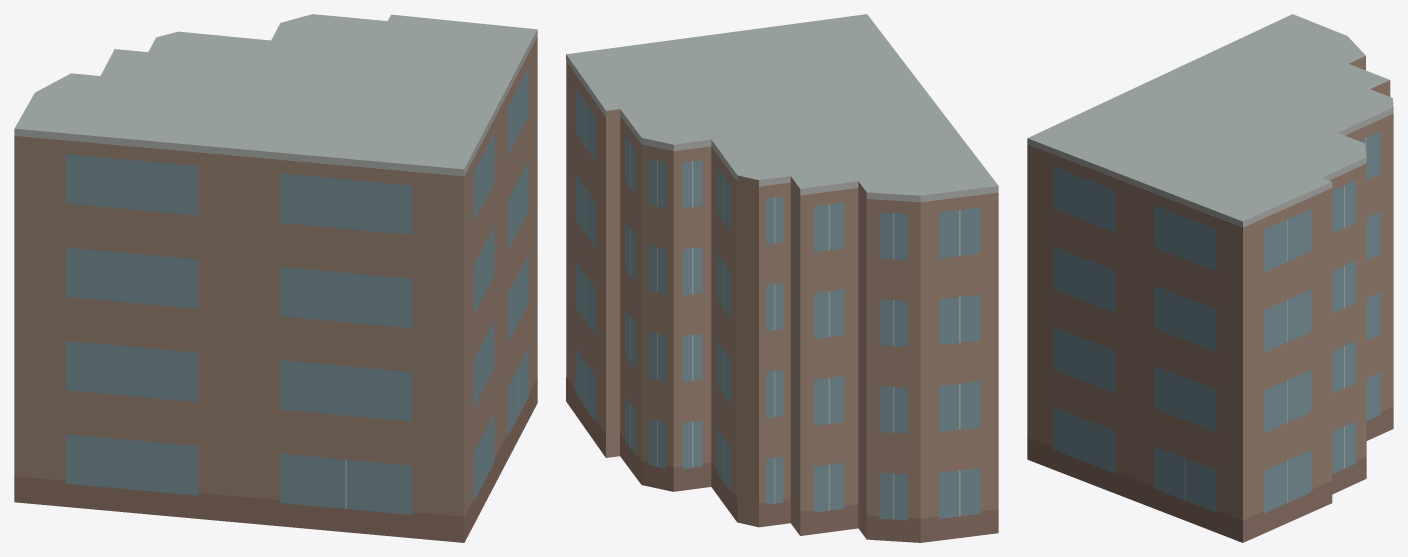
File: survey-upis-32902662.glb
3 views of the same model, side by side, from view 1: azimuth 30°, elevation 25°; view 2: azimuth 150°, elevation 25°; view 3: azimuth 270°, elevation 25° (orthographic). The views are drawn at different scales.
Parts seen in each view (by area): view 1: survey-upis-32902662.tmp; view 2: survey-upis-32902662.tmp; view 3: survey-upis-32902662.tmp.
Boxes of the visible parts, box(x1,y1,x2,y2) form: survey-upis-32902662.tmp: box(14, 14, 537, 542); survey-upis-32902662.tmp: box(566, 14, 998, 542); survey-upis-32902662.tmp: box(1027, 14, 1393, 542).
Bounding box in the file's own units: 17.84 × 12.88 × 13.31.
